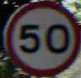Speed limit: (4, 3, 77, 73)
